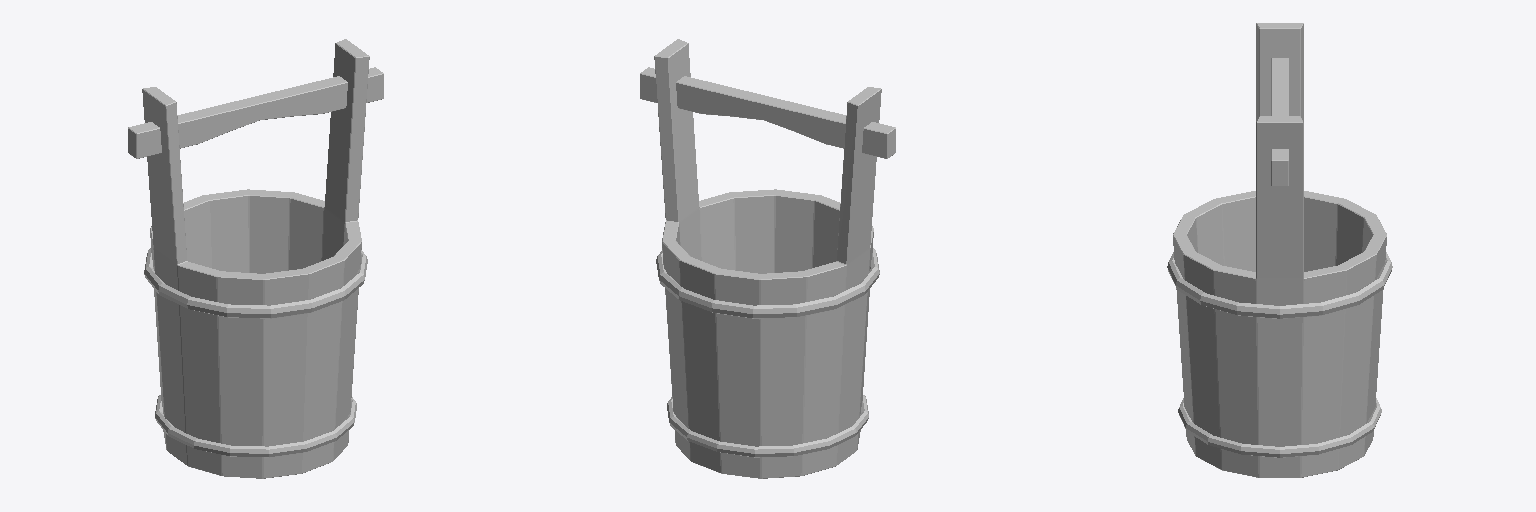
The model's file is teoke.obj.
The picture shows the model from 3 angles: view 1: azimuth 30°, elevation 25°; view 2: azimuth 150°, elevation 25°; view 3: azimuth 270°, elevation 25°; orthographic projection.
Parts seen in each view (by area): view 1: obj1, obj2, taga1, taga2; view 2: obj1, obj2, taga1, taga2; view 3: obj1, taga1, taga2, obj2.
Boxes of the visible parts, x1=… form: obj1: x1=142, y1=39, x2=369, y2=478; obj2: x1=128, y1=67, x2=383, y2=158; taga1: x1=144, y1=248, x2=367, y2=318; taga2: x1=155, y1=395, x2=356, y2=457; obj1: x1=654, y1=39, x2=881, y2=478; obj2: x1=640, y1=67, x2=895, y2=158; taga1: x1=656, y1=248, x2=879, y2=318; taga2: x1=667, y1=395, x2=868, y2=457; obj1: x1=1173, y1=23, x2=1386, y2=477; taga1: x1=1167, y1=252, x2=1392, y2=318; taga2: x1=1178, y1=398, x2=1381, y2=457; obj2: x1=1271, y1=58, x2=1288, y2=185.
Size of the model in its own units: 0.16 by 0.2267 by 0.1262.